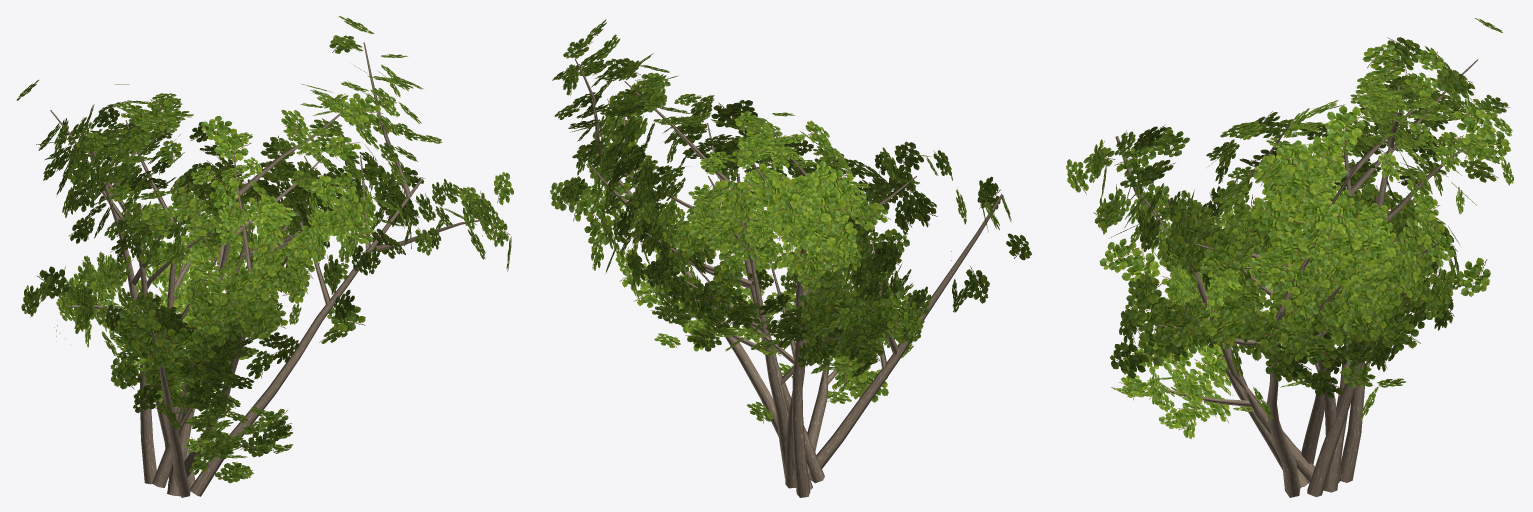
File: tree-bush-a.glb
3 views of the same model, side by side, from view 1: azimuth 30°, elevation 25°; view 2: azimuth 150°, elevation 25°; view 3: azimuth 270°, elevation 25° (orthographic). The views are drawn at different scales.
Visible parts, largest first — view 1: leaves, bark; view 2: leaves, bark; view 3: leaves, bark.
Part boxes in pixels (x1,y1,x2,y2): leaves: [16, 16, 513, 483]; bark: [50, 42, 487, 497]; leaves: [550, 19, 1031, 423]; bark: [575, 59, 1003, 497]; leaves: [1066, 18, 1513, 439]; bark: [1115, 59, 1477, 497].
Size of the model in its own units: 3.39 by 3.27 by 2.73.
Materials: 2 (2 with a texture image).
